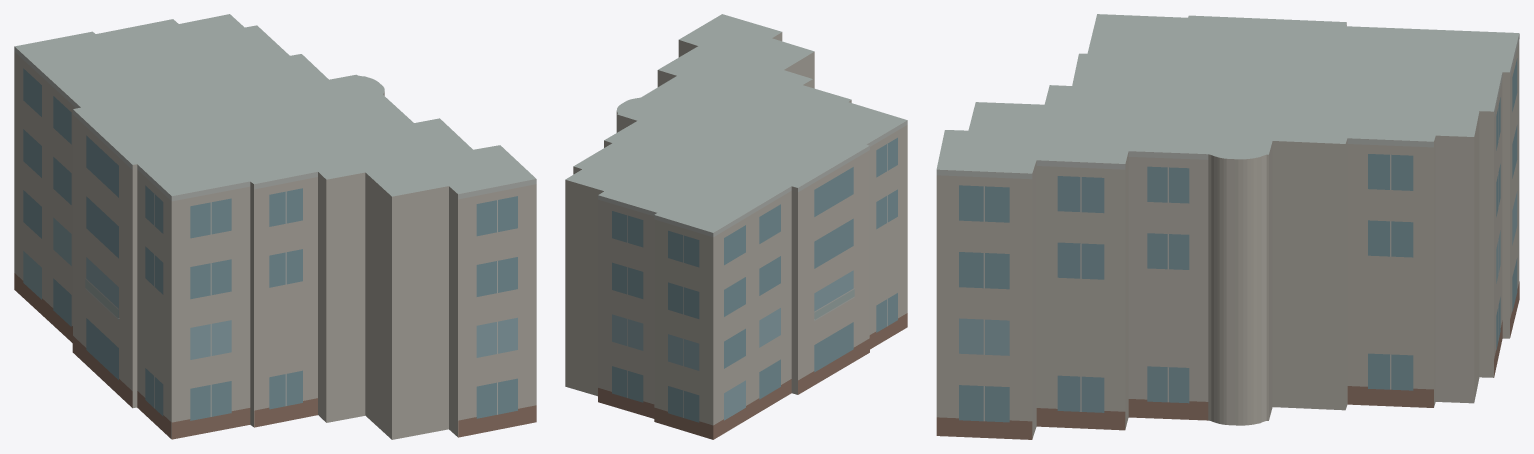
File: survey-upis-32504500.glb
The picture shows the model from 3 angles, left to right: view 1: azimuth 30°, elevation 25°; view 2: azimuth 150°, elevation 25°; view 3: azimuth 270°, elevation 25°; orthographic projection. The views are drawn at different scales.
Parts seen in each view (by area): view 1: survey-upis-32504500.tmp; view 2: survey-upis-32504500.tmp; view 3: survey-upis-32504500.tmp.
Boxes of the visible parts, x1,y1,x2,y2 form: survey-upis-32504500.tmp: [14, 14, 536, 439]; survey-upis-32504500.tmp: [565, 14, 907, 439]; survey-upis-32504500.tmp: [936, 14, 1519, 439].
Size of the model in its own units: 14.8 by 11.5 by 22.83.
